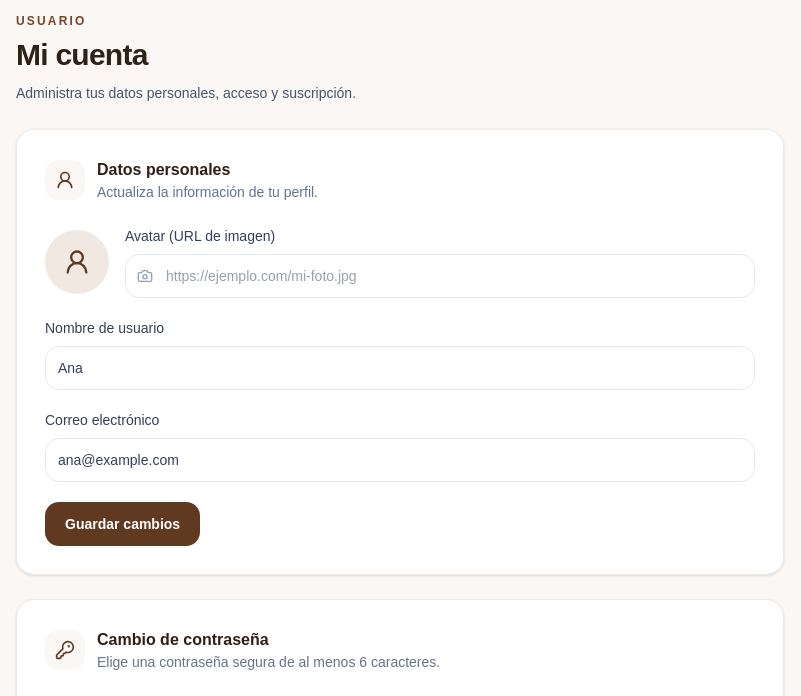
Test case: AccountSettings › guarda los datos de perfil y solicita confirmar un correo nuevo
Replace the text in the field labelled "Nombre de usuario" with "Ana Pérez" at (400, 368), box [45,346,755,390]
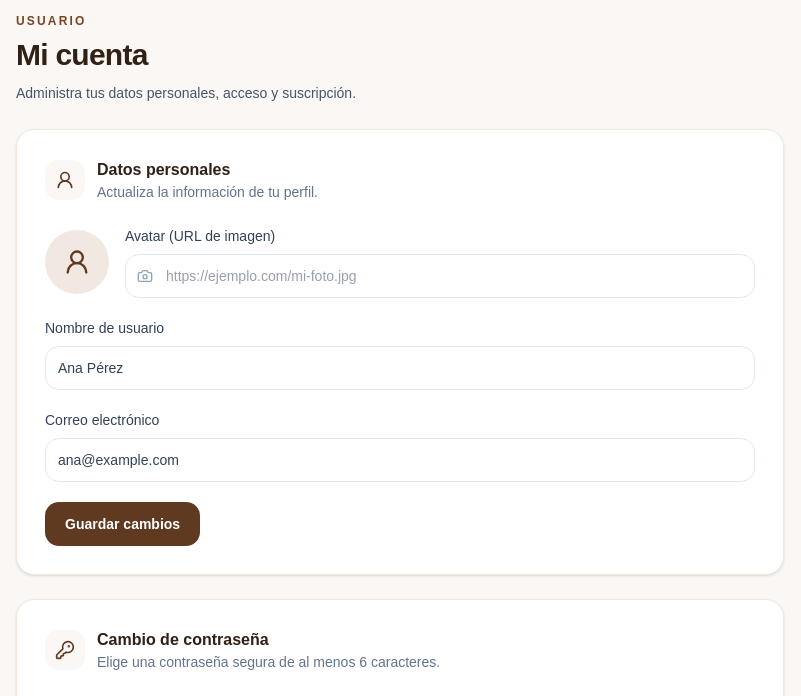
Replace the text in the field labelled "Correo electrónico" with "ana.perez@example.com" at (400, 460), box [45,438,755,482]
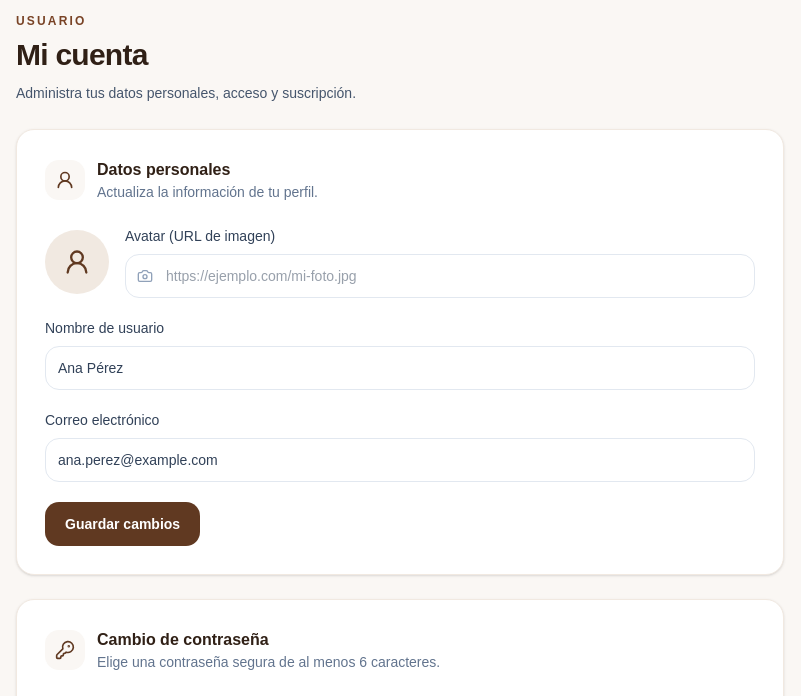
Type "https://example.com/avatar.jpg" into the field labelled "Avatar (URL de imagen)" at (440, 276), box [125,254,755,298]
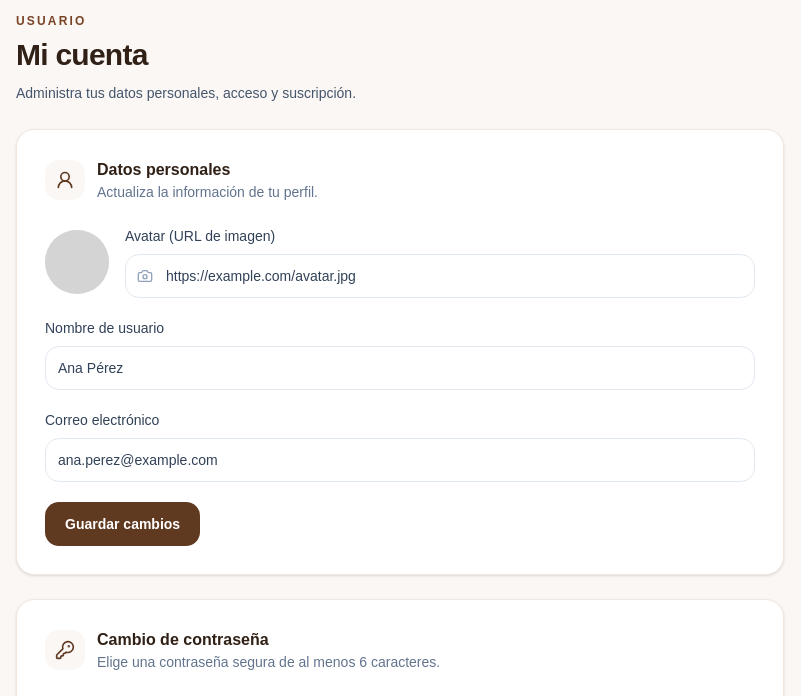
Click the button "Guardar cambios" at (123, 524), box [45,502,200,546]
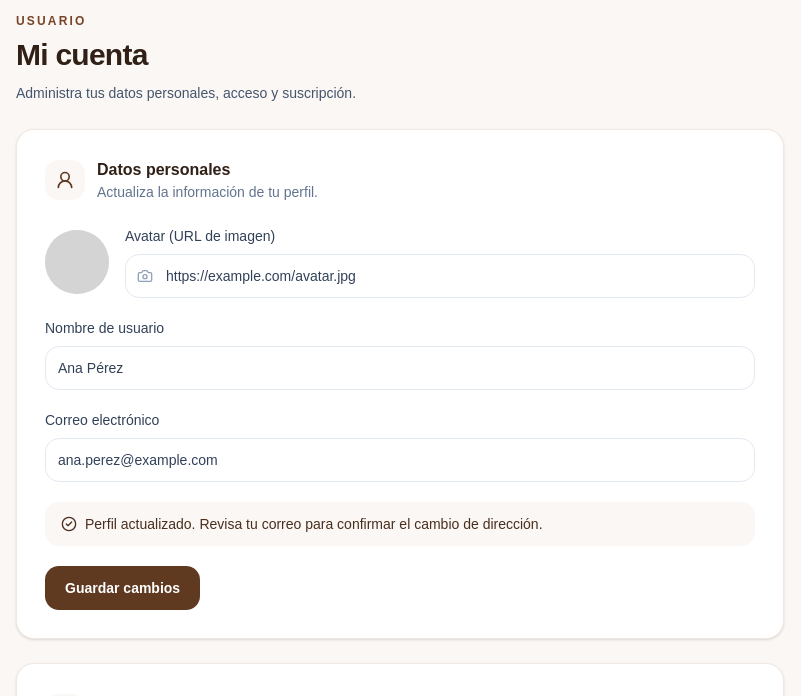
Check: the text "Perfil actualizado. Revisa tu correo para confirmar el cambio de dirección." is shown, box [45,502,755,546]
